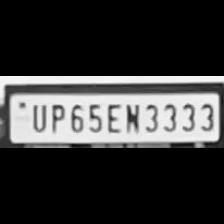3: (177, 98, 195, 132), (198, 98, 216, 132), (142, 100, 160, 132), (160, 100, 178, 132)
5: (85, 100, 103, 134)
6: (67, 100, 85, 134)
E: (104, 100, 122, 134)
N: (122, 100, 142, 134)
P: (46, 100, 64, 134)
U: (28, 100, 48, 132)
